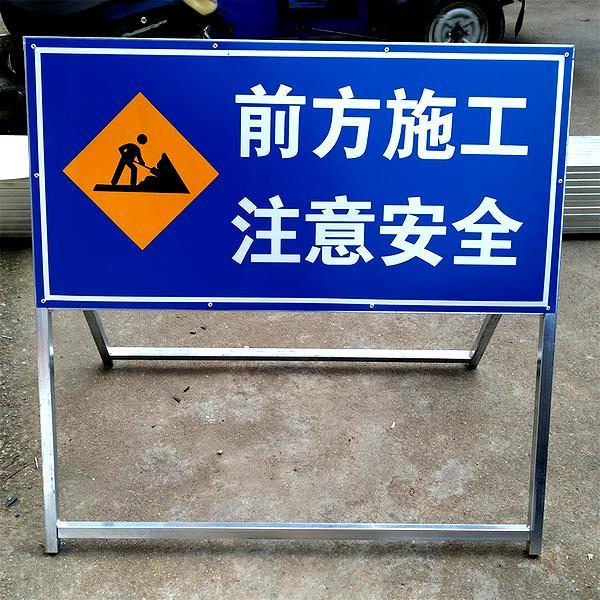sign: (33, 42, 552, 311)
